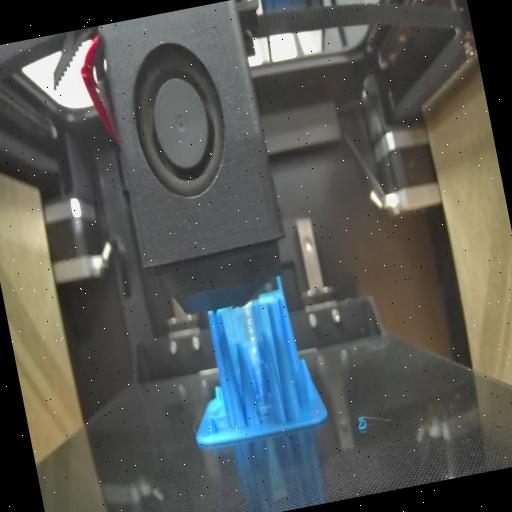stringing: (220, 297, 272, 347), (254, 397, 276, 424)
